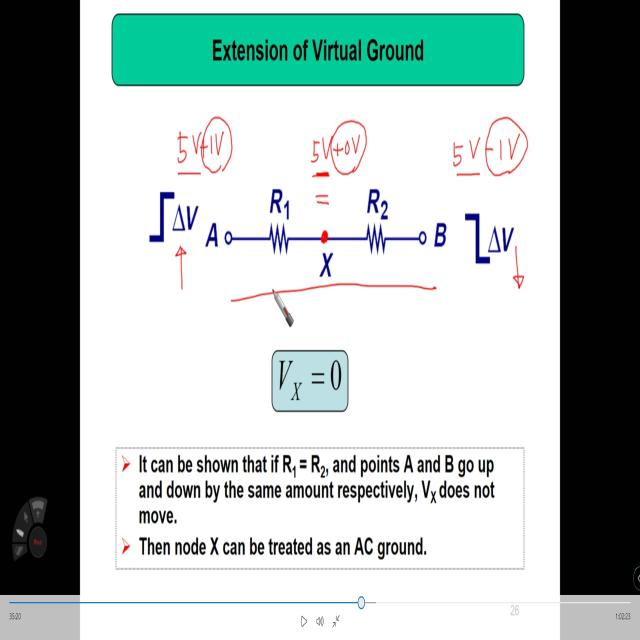panseo: (440, 112, 530, 186), (296, 112, 374, 185), (166, 112, 242, 183)
